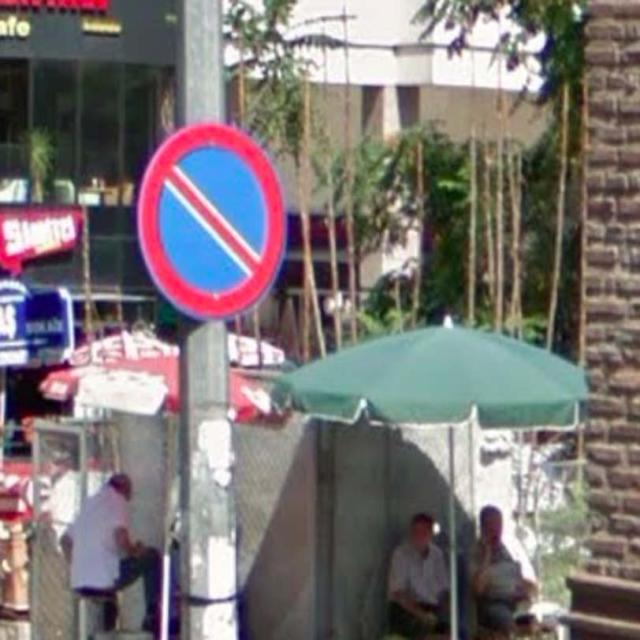parkyasak: (134, 121, 290, 319)
